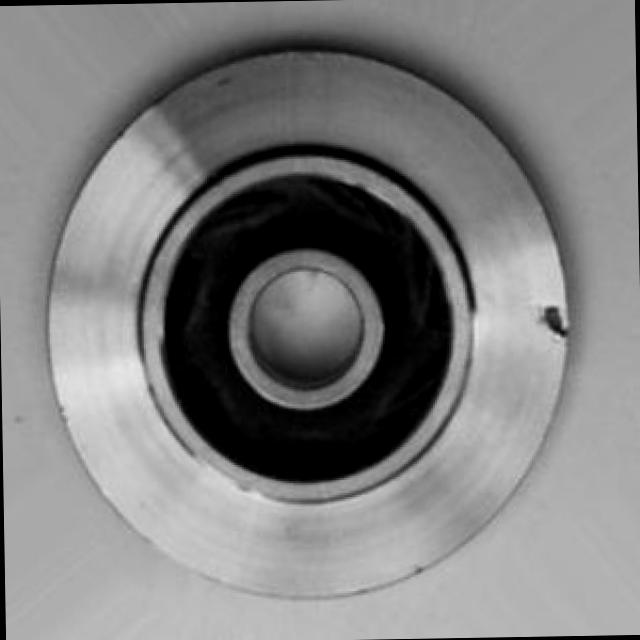Defect: (535, 296, 576, 348)
